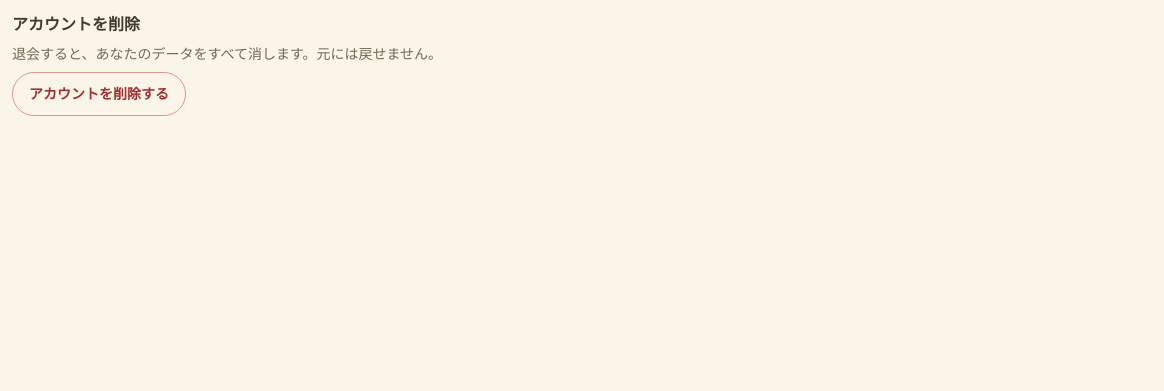
it: AccountDeletionSettings(退会。UIUX改装 項目40) › 消えるものを見せ、「さくじょ」と入力するまで押せない。確定したら端末の通学路も消してログアウトする
Later steps or results of the test are not shown.
Click the button "アカウントを削除する". click: x=99, y=94
box: left=12, top=72, right=186, bottom=116
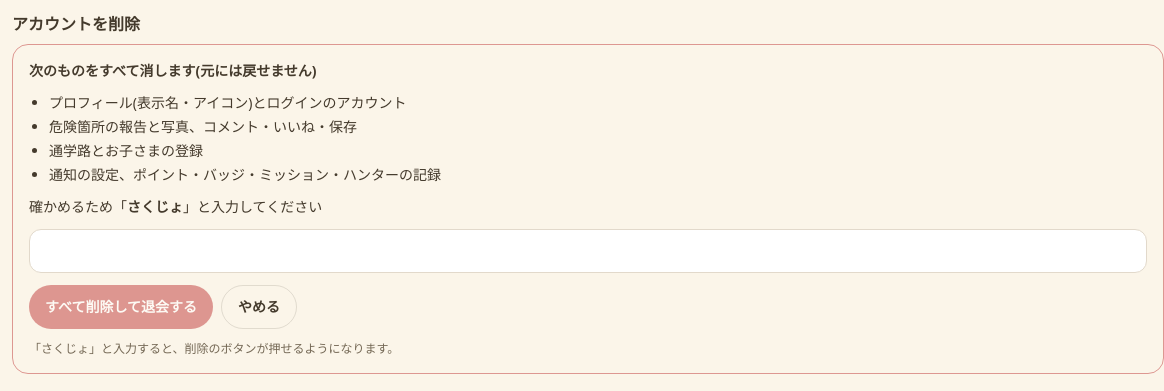
Now the list item "通学路とお子さまの登録" is shown, box left=49, top=141, right=203, bottom=160
Now the button "すべて削除して退会する" is disabled, box left=29, top=285, right=213, bottom=329
